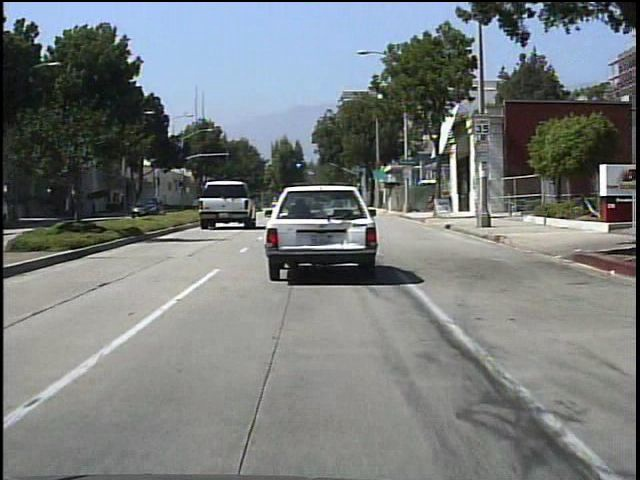person: (89, 195, 106, 222), (135, 193, 150, 216)
